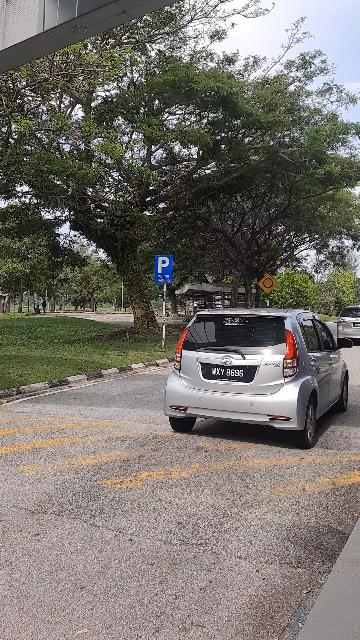License_Plate: (200, 361, 262, 385)
car: (166, 306, 354, 448)
